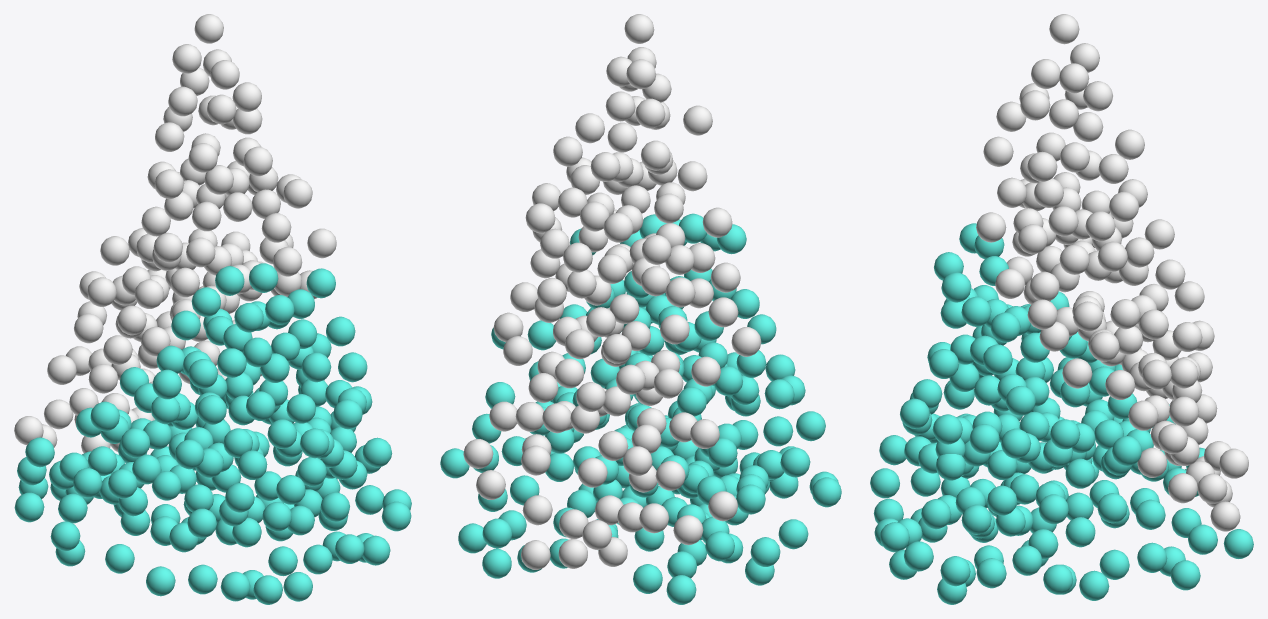
File: tree2.glb
The picture shows the model from 3 angles, left to right: view 1: azimuth 30°, elevation 25°; view 2: azimuth 150°, elevation 25°; view 3: azimuth 270°, elevation 25°; orthographic projection.
Visible parts, largest first — view 1: Sphere.1 0 (×6), Sphere 8 (×3), Sphere 3 (×3), Sphere 19 (×3), Sphere.1 1 (×3), Sphere 18 (×3), Sphere 6 (×3), Sphere.1 4 (×3), Sphere 2 (×3), Sphere 7 (×3), Sphere.1 2 (×3), Sphere 23 (×2) (+56 smaller); view 2: Sphere.1 0 (×6), Sphere.1 2 (×4), Sphere.1 3 (×4), Sphere.1 8 (×3), Sphere.1 18 (×3), Sphere.1 11 (×3), Sphere.1 4 (×3), Sphere.1 5 (×3), Sphere 3 (×3), Sphere.1 27 (×3), Sphere.1 1 (×3), Sphere.1 19 (×3) (+53 smaller); view 3: Sphere.1 2 (×5), Sphere.1 3 (×4), Sphere.1 5 (×4), Sphere.1 1 (×4), Sphere.1 0 (×4), Sphere.1 19 (×3), Sphere.1 8 (×3), Sphere.1 6 (×3), Sphere 8 (×2), Sphere 49 (×2), Sphere.1 37 (×2), Sphere.1 11 (×2) (+56 smaller).
Boxes of the visible parts, x1,y1,x2,y2 form: Sphere.1 0 (×6): (88,14,291,393); Sphere 8 (×3): (175,295,294,601); Sphere 3 (×3): (90,287,220,573); Sphere 19 (×3): (121,303,263,596); Sphere.1 1 (×3): (188,82,261,221); Sphere 18 (×3): (300,268,390,565); Sphere 6 (×3): (197,263,278,547); Sphere.1 4 (×3): (141,169,184,356); Sphere 2 (×3): (151,266,244,552); Sphere 7 (×3): (223,289,314,576); Sphere.1 2 (×3): (180,60,262,134); Sphere 23 (×2): (333,399,411,531); Sphere.1 0 (×6): (607,14,740,442); Sphere.1 2 (×4): (521,91,635,475); Sphere.1 3 (×4): (463,73,671,468); Sphere.1 8 (×3): (503,203,555,525); Sphere.1 18 (×3): (563,242,703,545); Sphere.1 11 (×3): (489,207,732,431); Sphere.1 4 (×3): (566,161,707,298); Sphere.1 5 (×3): (565,140,670,359); Sphere 3 (×3): (716,224,841,507); Sphere.1 27 (×3): (570,277,695,566); Sphere.1 1 (×3): (606,56,712,274); Sphere.1 19 (×3): (476,183,560,499); Sphere.1 2 (×5): (1031,59,1119,361); Sphere.1 3 (×4): (1017,129,1197,503); Sphere.1 5 (×4): (995,112,1168,339); Sphere.1 1 (×4): (996,63,1089,207); Sphere.1 0 (×4): (976,14,1099,242); Sphere.1 19 (×3): (1059,244,1227,503); Sphere.1 8 (×3): (1097,241,1248,478); Sphere.1 6 (×3): (983,136,1143,354); Sphere 8 (×2): (870,272,971,498); Sphere 49 (×2): (932,414,970,586); Sphere.1 37 (×2): (1169,396,1240,531); Sphere.1 11 (×2): (1155,259,1187,454).
Bounding box in the file's own units: 1820856 × 2745920 × 1775772.
